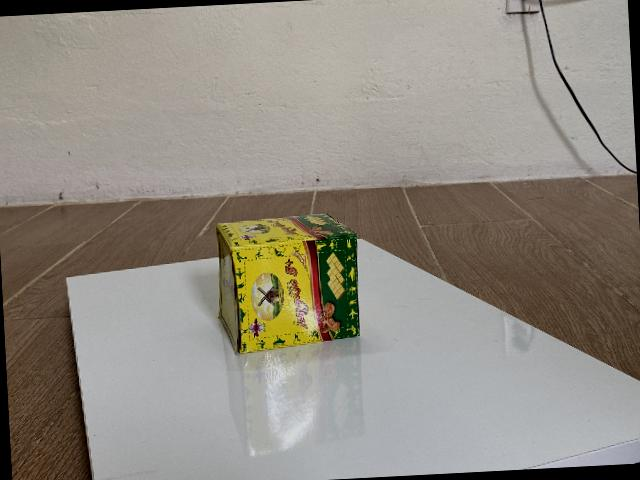luong_kho: (216, 213, 360, 355)
